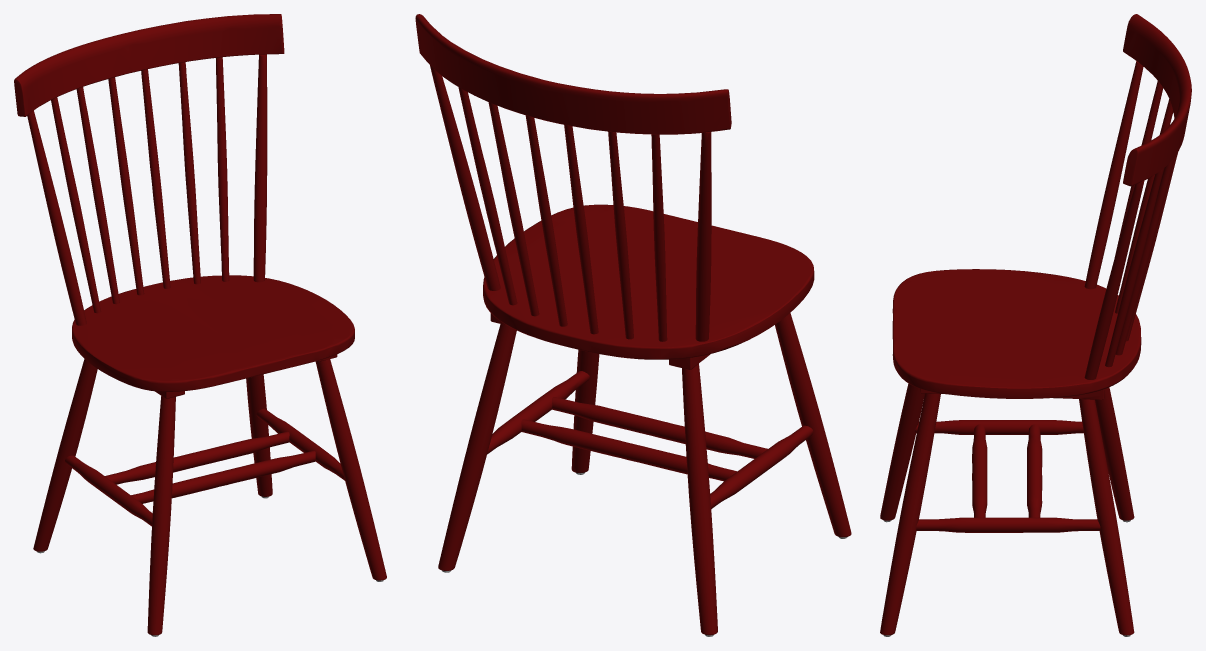
File: BRWT1400_v6_LOD2.obj
3 views of the same model, side by side, from view 1: azimuth 30°, elevation 25°; view 2: azimuth 150°, elevation 25°; view 3: azimuth 270°, elevation 25° (orthographic). The views are drawn at different scales.
Visible parts, largest first — view 1: not_clear_obj_0_v6; view 2: not_clear_obj_0_v6; view 3: not_clear_obj_0_v6.
Part boxes in pixels (left/top/right/bottom): not_clear_obj_0_v6: left=14, top=14, right=386, bottom=635; not_clear_obj_0_v6: left=415, top=14, right=851, bottom=635; not_clear_obj_0_v6: left=880, top=14, right=1191, bottom=635.
Size of the model in its own units: 54.6 by 92.65 by 52.72.
